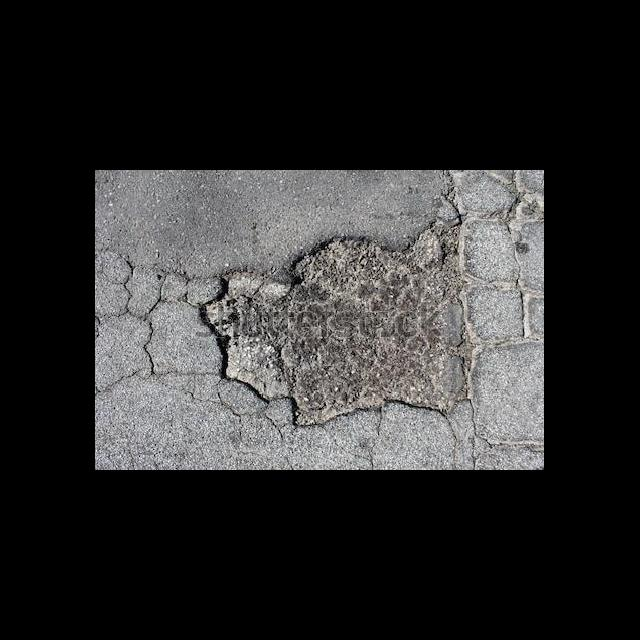lubang_kecil: (195, 222, 486, 433)
